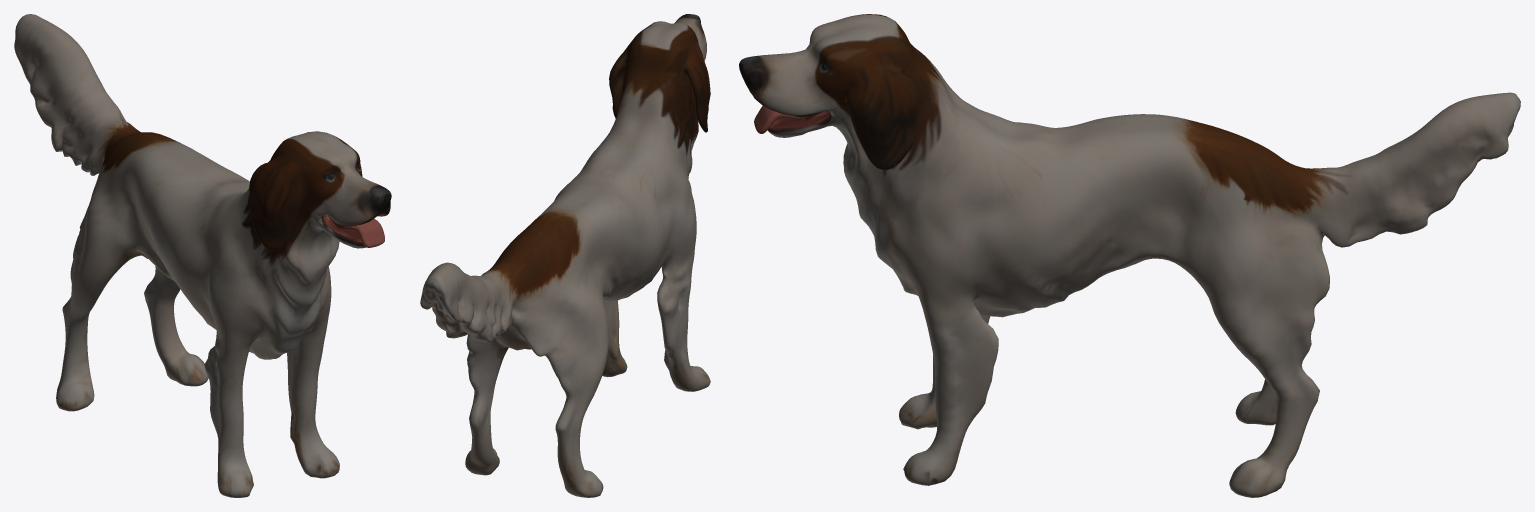
Rendered from Сеттер - Орловский - охотник в поле.gltf.
3 views of the same model, side by side, from view 1: azimuth 30°, elevation 25°; view 2: azimuth 150°, elevation 25°; view 3: azimuth 270°, elevation 25° (orthographic). The views are drawn at different scales.
Parts seen in each view (by area): view 1: tripo_node_8aa9ba14.1; view 2: tripo_node_8aa9ba14.1; view 3: tripo_node_8aa9ba14.1.
Boxes of the visible parts, left/top/right/bottom form: tripo_node_8aa9ba14.1: left=14, top=14, right=391, bottom=497; tripo_node_8aa9ba14.1: left=420, top=14, right=710, bottom=497; tripo_node_8aa9ba14.1: left=739, top=14, right=1520, bottom=497.
Bounding box in the file's own units: 26.41 × 63.26 × 100.
1 material, 1 textured.
